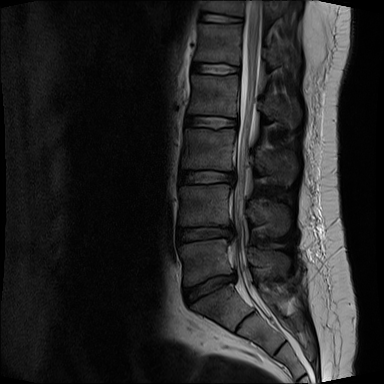Lumbar Disc Bulge (LDB): (173, 264, 242, 314), (168, 223, 240, 247), (171, 167, 240, 191)
Normal IVD: (177, 108, 242, 133), (185, 58, 245, 79), (192, 8, 246, 28)
Spinal Stenosis (SS): (218, 216, 240, 248), (221, 262, 244, 291), (225, 162, 243, 189)
